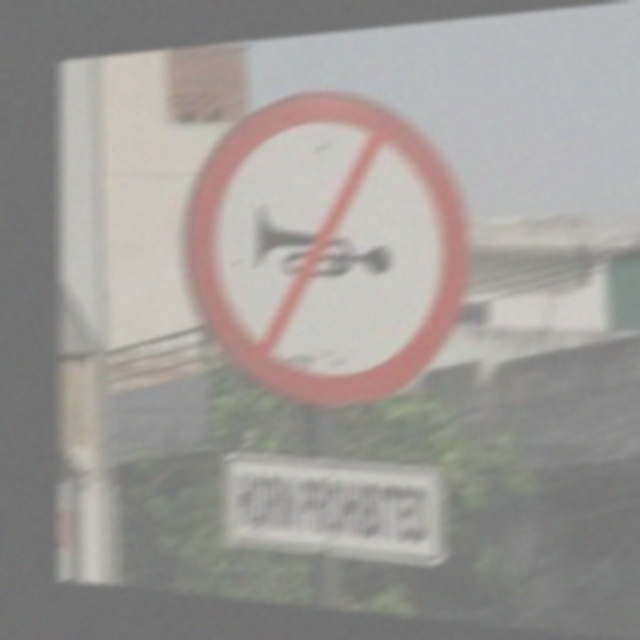Horn_Prohibited: (195, 81, 467, 406)
